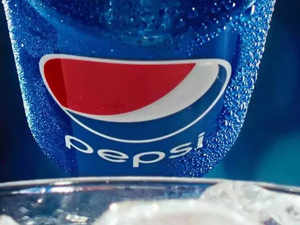pepsi: (37, 46, 230, 143), (39, 46, 230, 143)
